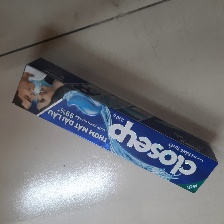CloseUp Tuyet: (11, 58, 219, 196)
